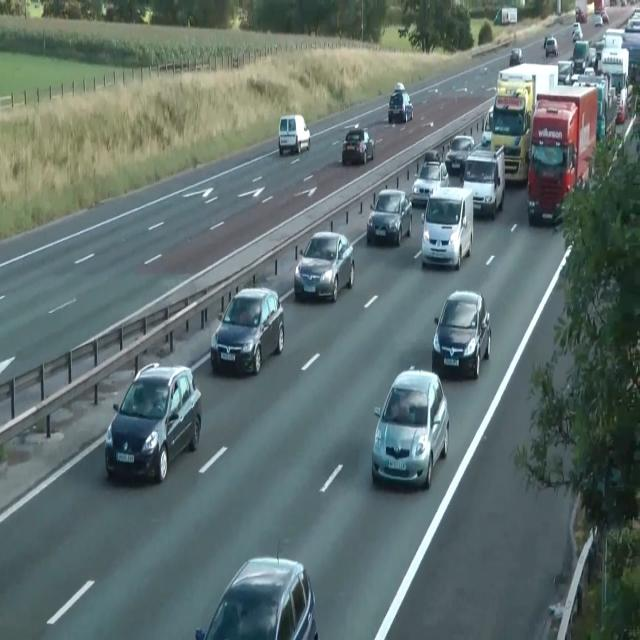bus: (194, 544, 318, 639), (431, 290, 491, 380), (294, 230, 354, 302), (366, 188, 412, 246), (411, 152, 449, 206), (445, 133, 475, 176), (342, 127, 374, 165), (482, 106, 494, 146), (558, 60, 574, 84), (544, 35, 558, 57), (626, 9, 640, 30), (509, 47, 523, 66), (423, 150, 440, 164), (572, 22, 582, 42), (393, 82, 405, 92), (601, 9, 609, 23), (594, 14, 602, 27)
car: (489, 85, 531, 183)
jeep: (104, 361, 202, 483), (371, 364, 449, 490), (210, 285, 284, 376), (421, 186, 474, 269), (462, 144, 506, 218), (278, 113, 310, 155), (387, 89, 413, 123)
minibus: (526, 82, 598, 226), (490, 62, 558, 184), (598, 46, 630, 124), (493, 6, 517, 25), (575, 0, 587, 22)
